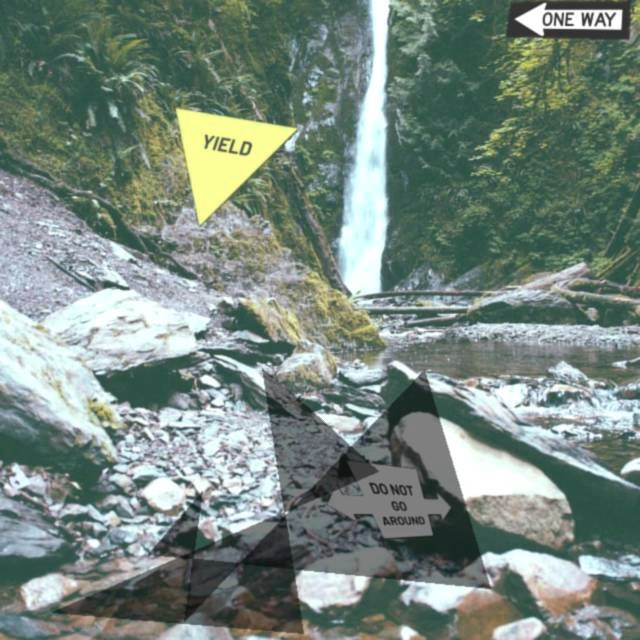DO_NOT_GO_AROUND: (326, 459, 452, 539)
ONE_WAY_ left: (505, 0, 631, 40)
YIELD: (174, 107, 300, 228)
